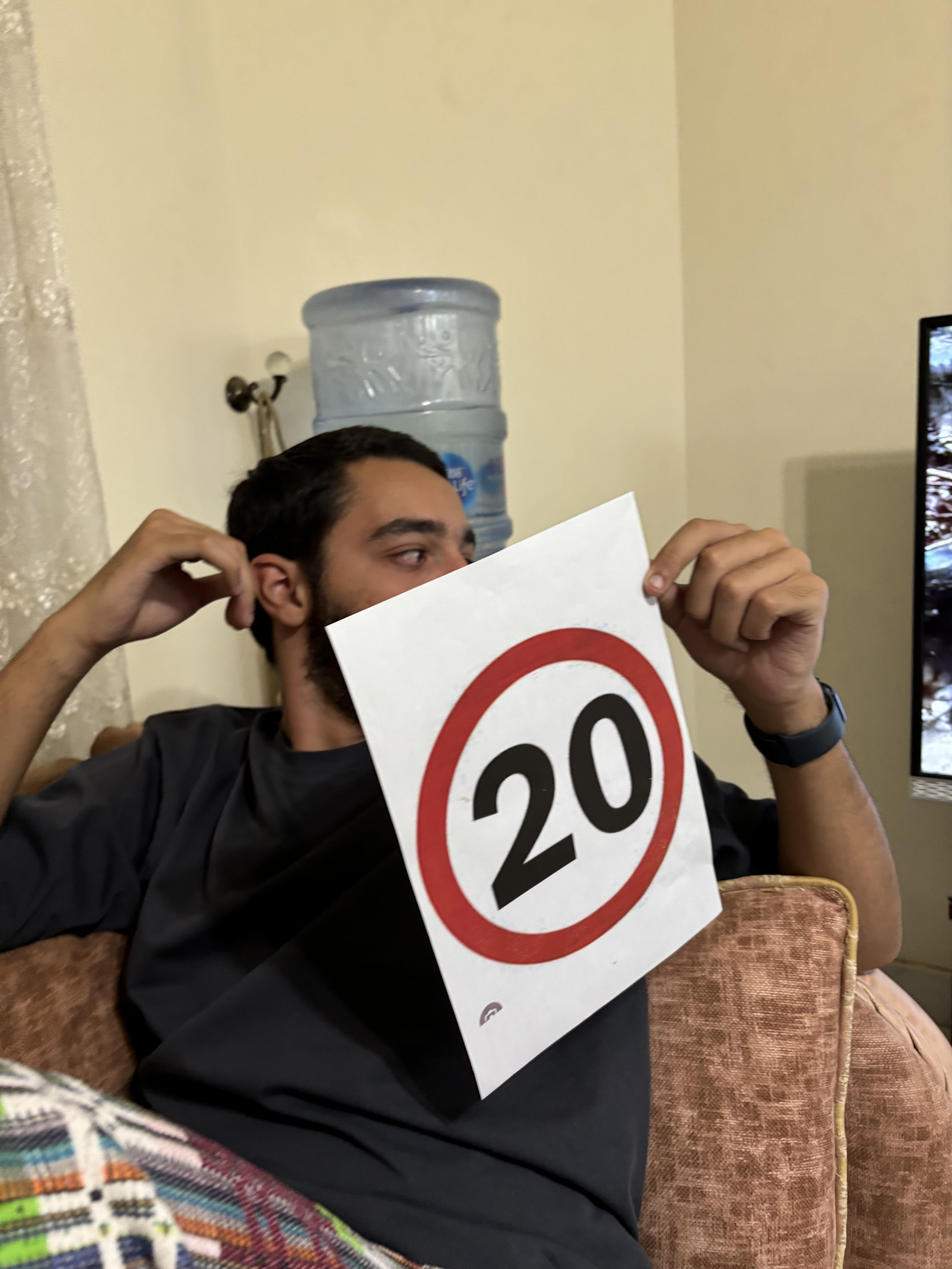20-Speed: (387, 616, 698, 970)
